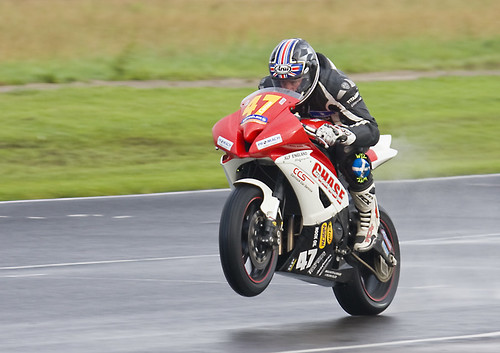helmet: (269, 36, 317, 85)
